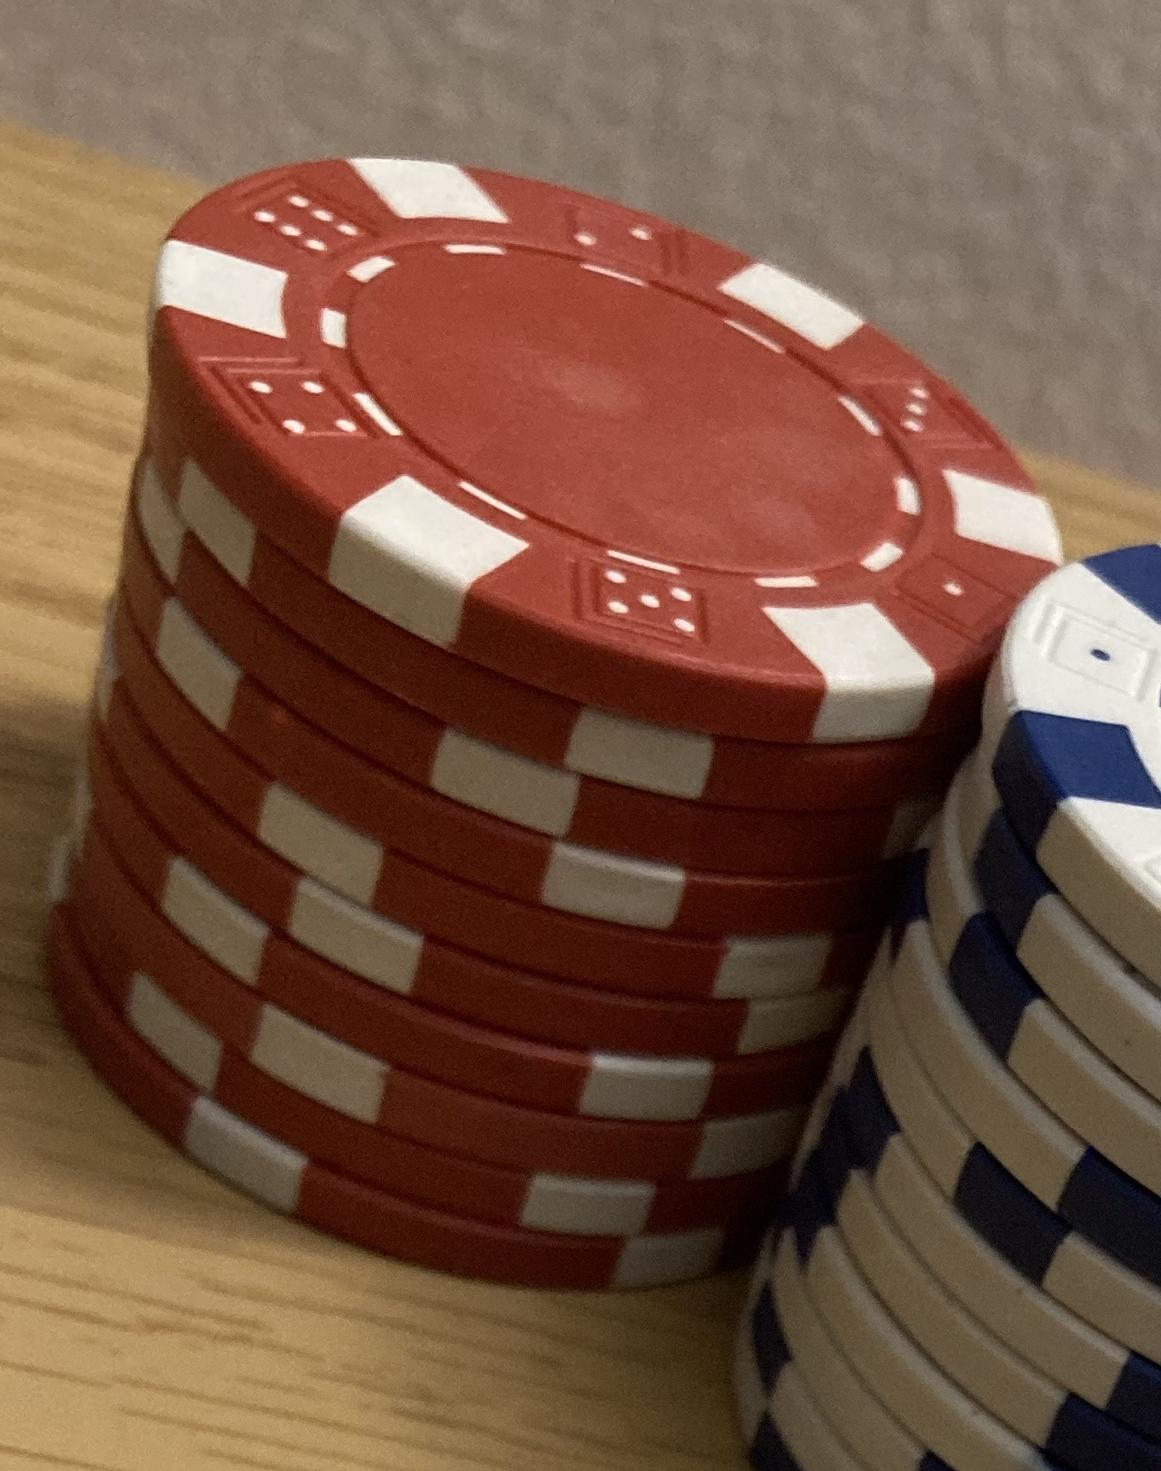Chip: (1, 1, 1161, 1471)
